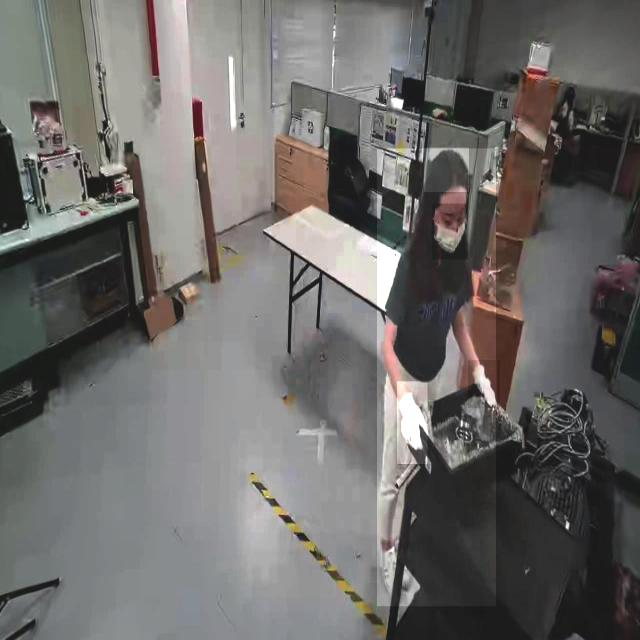face_mask: (432, 203, 468, 260)
hand_glove: (397, 381, 428, 465), (468, 360, 500, 409)
head_nohelmet: (424, 147, 470, 193)
person: (377, 149, 497, 607)
